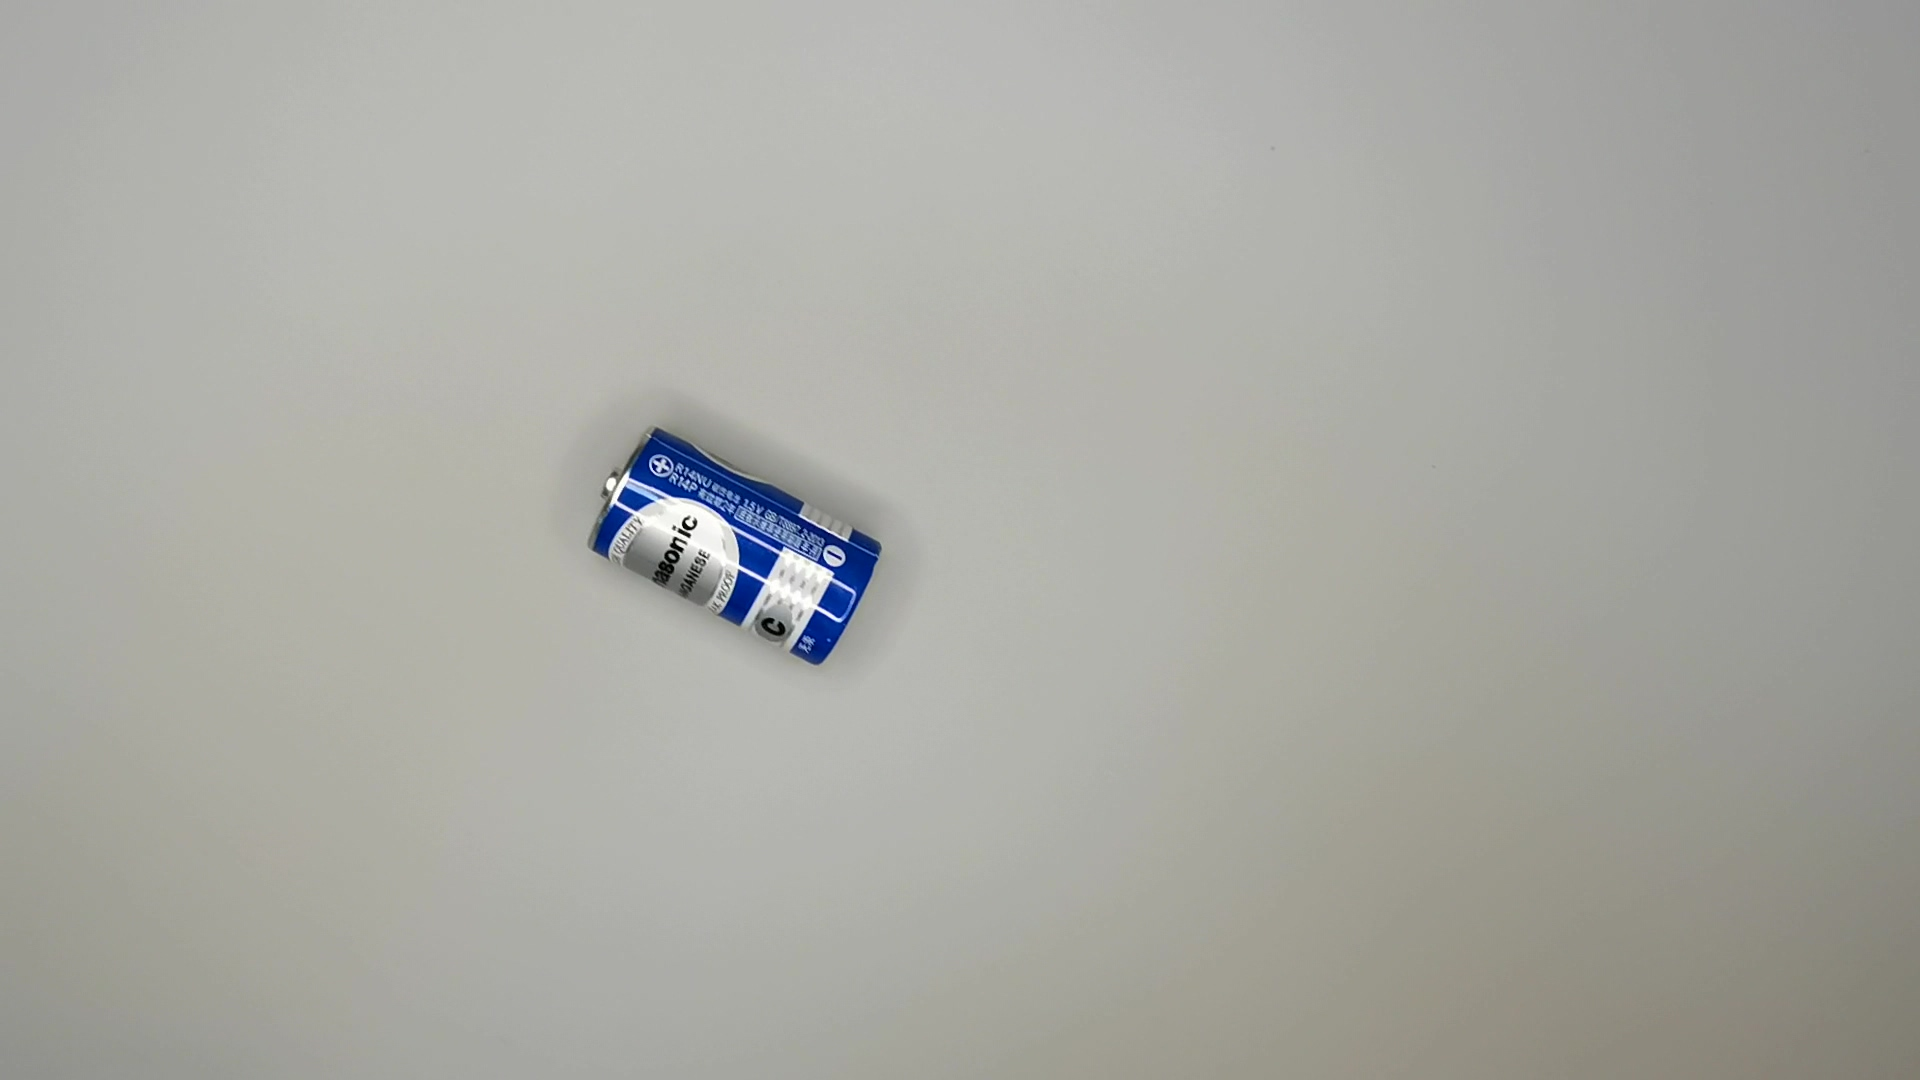battery: (585, 425, 891, 669)
